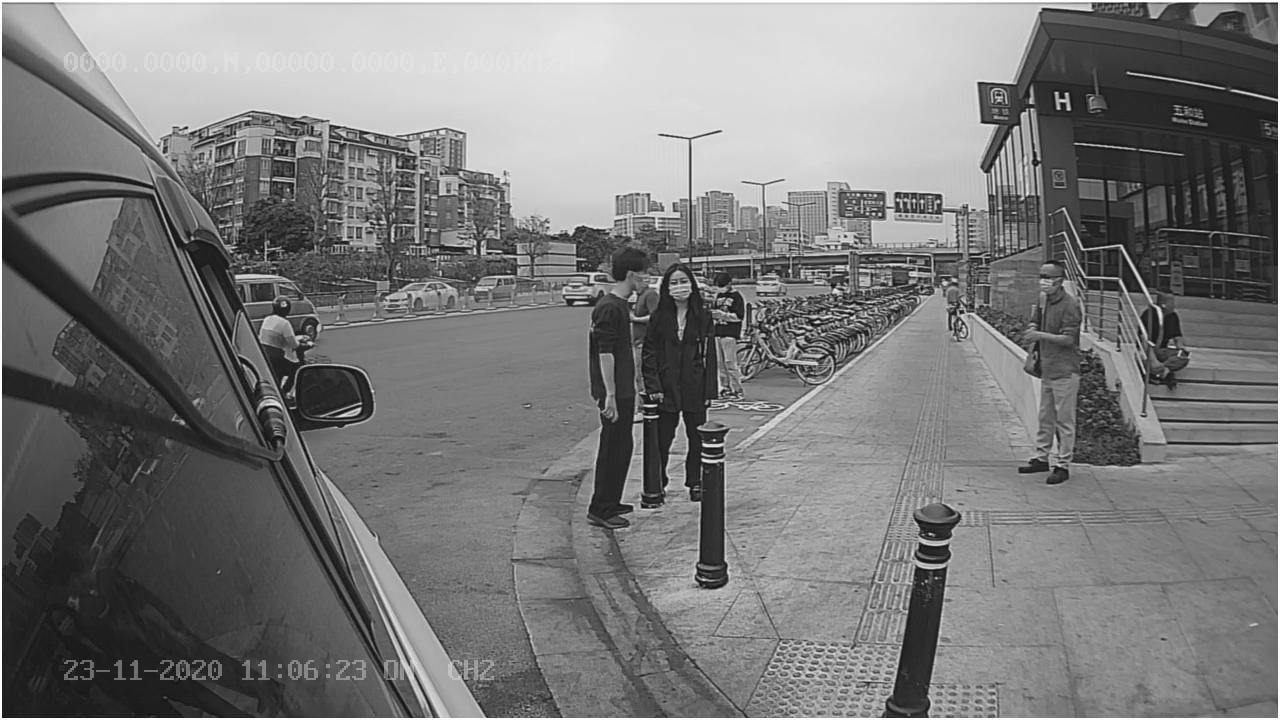person: (1002, 251, 1088, 494)
